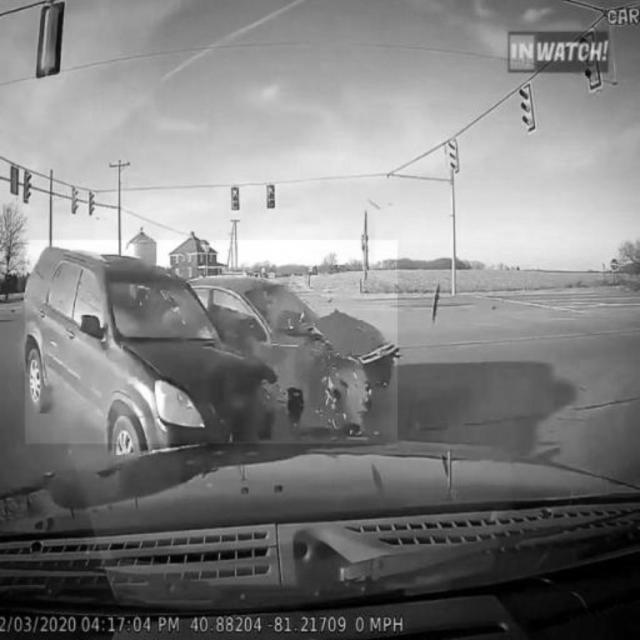accident: (25, 240, 397, 444)
